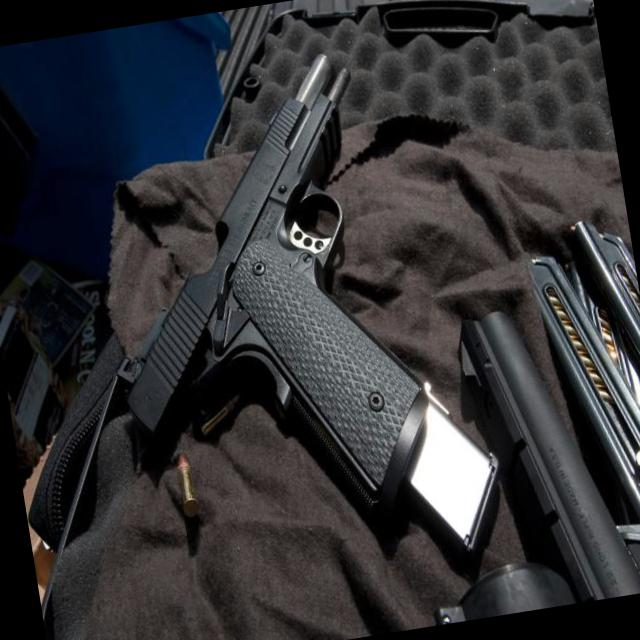Gun: (127, 55, 497, 557)
